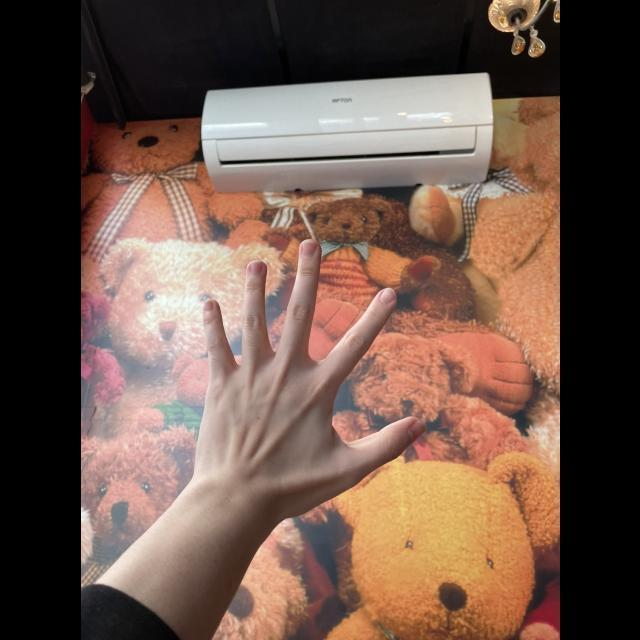bare_hand: (160, 237, 446, 519)
